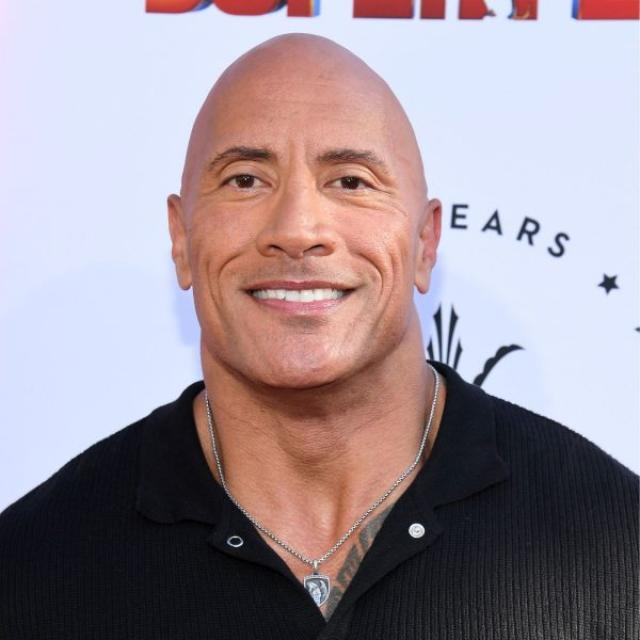Nonhelmet: (147, 16, 457, 420)
